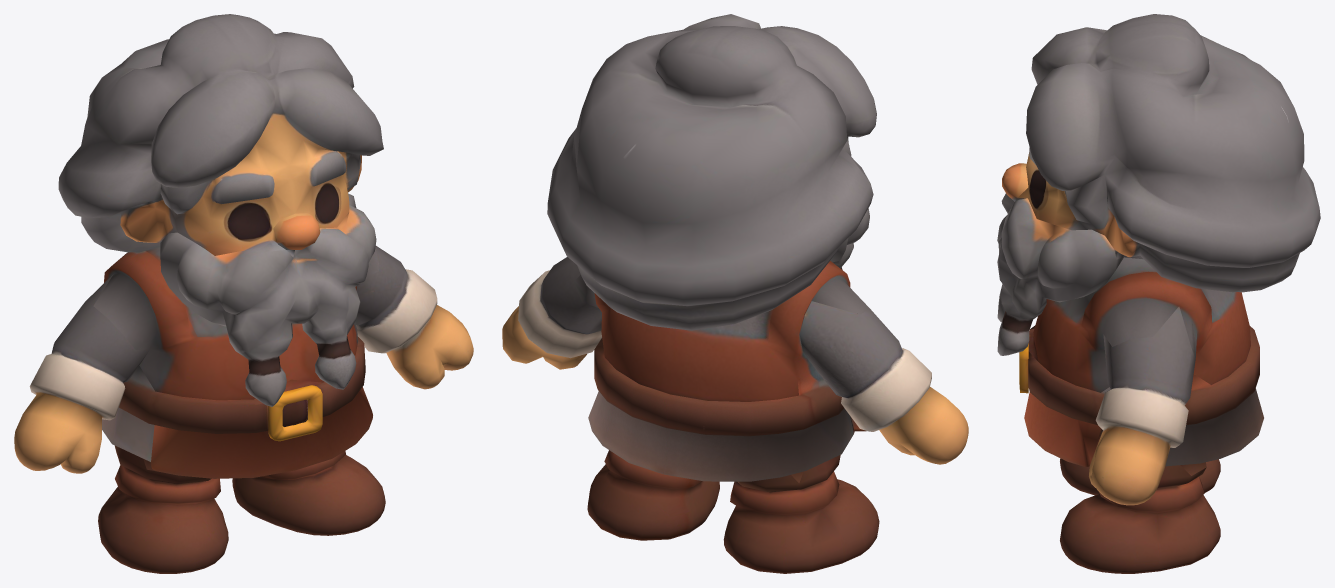
File: dwarf_common_tripo_segmented_packuv.glb
The picture shows the model from 3 angles, left to right: view 1: azimuth 30°, elevation 25°; view 2: azimuth 150°, elevation 25°; view 3: azimuth 270°, elevation 25°; orthographic projection. The views are drawn at different scales.
Visible parts, largest first — view 1: tripo_part_0, tripo_part_1, tripo_part_6, tripo_part_7, tripo_part_2, tripo_part_4, tripo_part_3, tripo_part_5, tripo_part_9, tripo_part_8; view 2: tripo_part_0, tripo_part_6, tripo_part_7, tripo_part_2, tripo_part_4, tripo_part_5, tripo_part_3, tripo_part_1; view 3: tripo_part_0, tripo_part_7, tripo_part_3, tripo_part_6, tripo_part_5, tripo_part_1, tripo_part_4, tripo_part_8, tripo_part_9.
Part boxes in pixels (x1,y1,x2,y2): tripo_part_0: [58, 14, 383, 255]; tripo_part_1: [160, 193, 376, 406]; tripo_part_6: [102, 336, 372, 478]; tripo_part_7: [93, 247, 378, 400]; tripo_part_2: [14, 274, 149, 473]; tripo_part_4: [98, 445, 228, 573]; tripo_part_3: [355, 245, 473, 389]; tripo_part_5: [232, 451, 385, 535]; tripo_part_9: [268, 385, 322, 441]; tripo_part_8: [273, 213, 320, 249]; tripo_part_0: [547, 14, 876, 330]; tripo_part_6: [588, 338, 866, 482]; tripo_part_7: [574, 261, 869, 401]; tripo_part_2: [799, 301, 968, 464]; tripo_part_4: [723, 455, 879, 573]; tripo_part_5: [587, 450, 719, 540]; tripo_part_3: [502, 257, 601, 369]; tripo_part_1: [830, 208, 869, 269]; tripo_part_0: [1015, 14, 1320, 292]; tripo_part_7: [1033, 257, 1250, 392]; tripo_part_3: [1089, 306, 1195, 505]; tripo_part_6: [1024, 325, 1263, 475]; tripo_part_5: [1060, 465, 1220, 573]; tripo_part_1: [997, 193, 1123, 355]; tripo_part_4: [1060, 458, 1220, 495]; tripo_part_8: [1002, 163, 1028, 201]; tripo_part_9: [1019, 343, 1028, 393].
Size of the model in its own units: 0.9478 by 0.9995 by 0.604.
Materials: 1 (1 with a texture image).
